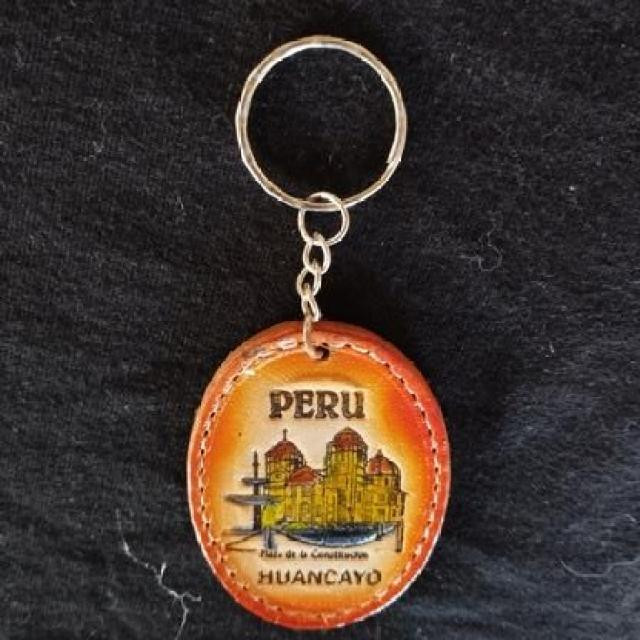Llavero: (185, 317, 452, 631)
